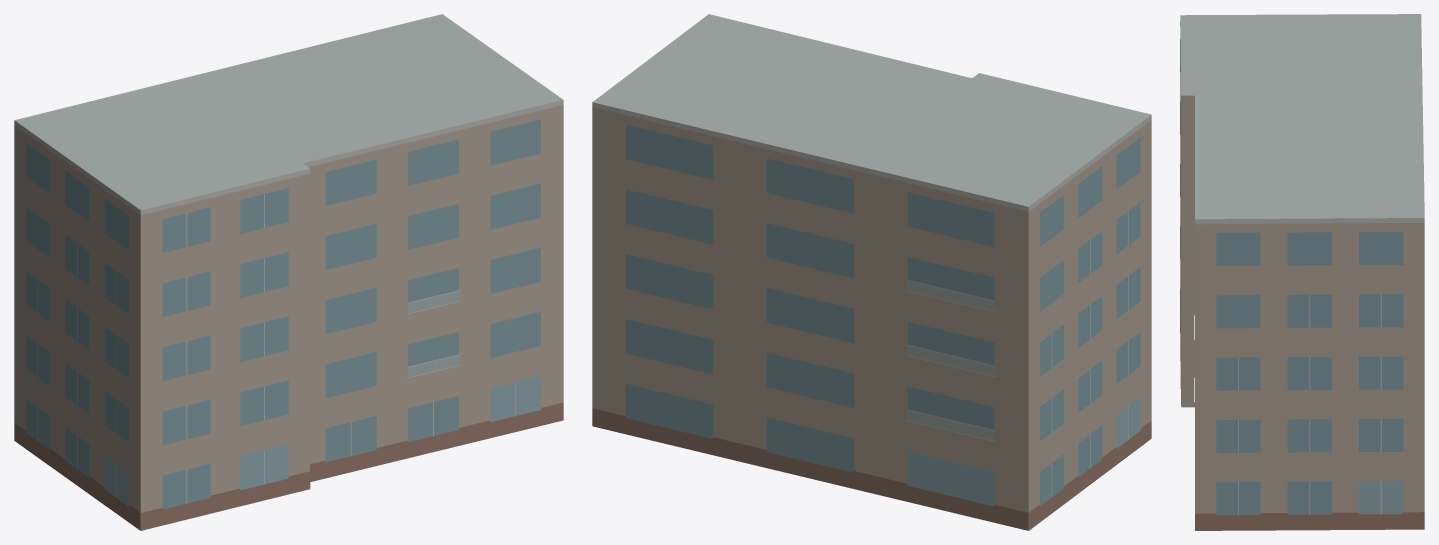
File: survey-upis-33041074.glb
The picture shows the model from 3 angles, left to right: view 1: azimuth 30°, elevation 25°; view 2: azimuth 150°, elevation 25°; view 3: azimuth 270°, elevation 25°; orthographic projection. The views are drawn at different scales.
Parts seen in each view (by area): view 1: survey-upis-33041074.tmp; view 2: survey-upis-33041074.tmp; view 3: survey-upis-33041074.tmp.
Boxes of the visible parts, x1,y1,x2,y2 form: survey-upis-33041074.tmp: (14, 14, 563, 530); survey-upis-33041074.tmp: (592, 14, 1151, 530); survey-upis-33041074.tmp: (1180, 14, 1424, 530).
Size of the model in its own units: 21.84 by 15.45 by 11.
